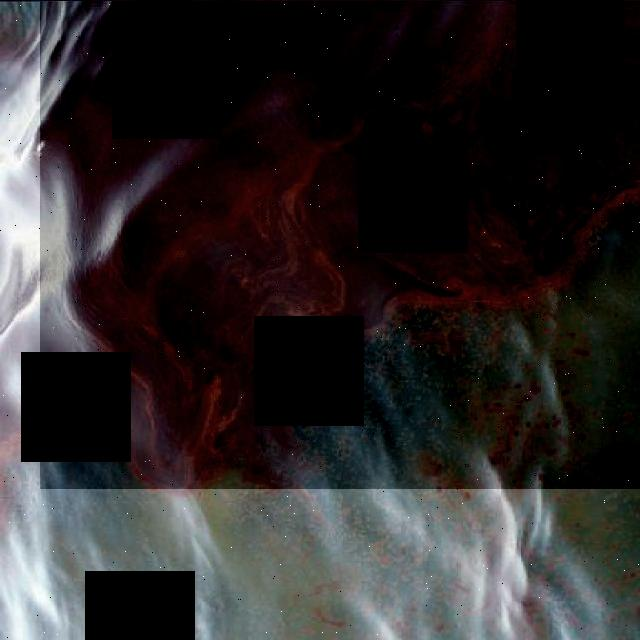oil spill: (40, 1, 640, 489)
